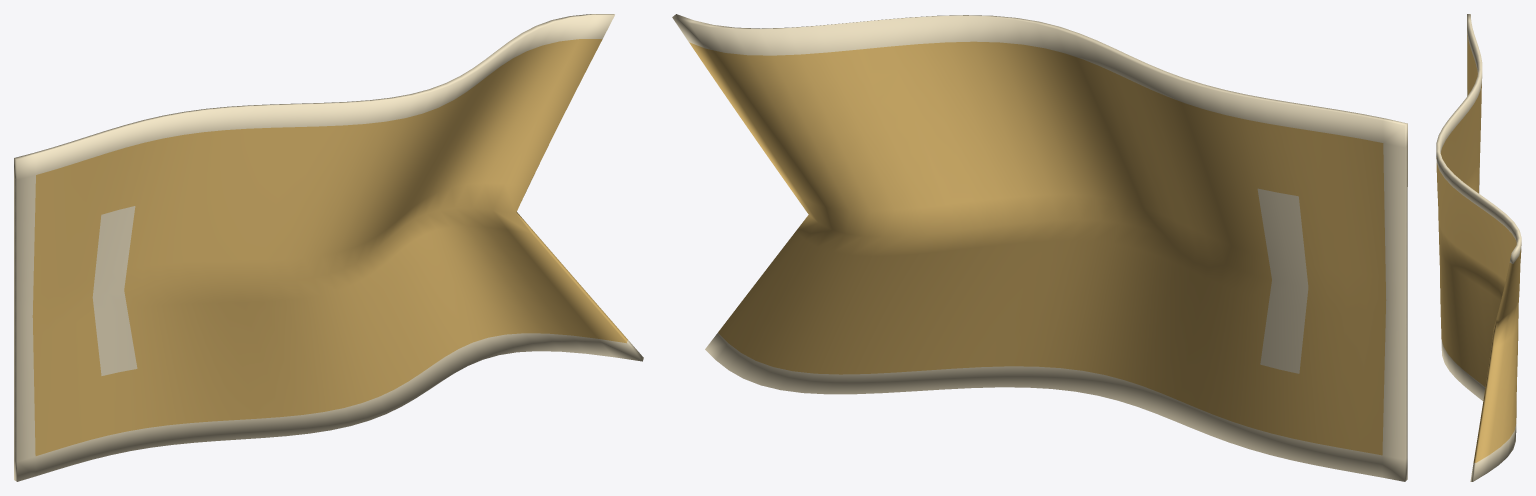
File: flag-4.glb
3 renders of one model, left to right at view 1: azimuth 30°, elevation 25°; view 2: azimuth 150°, elevation 25°; view 3: azimuth 270°, elevation 25°, orthographic. The views are drawn at different scales.
Visible parts, largest first — view 1: Captain standard; view 2: Captain standard; view 3: Captain standard.
Boxes of the visible parts, x1,y1,x2,y2 form: Captain standard: (14,14,643,481); Captain standard: (672,14,1407,481); Captain standard: (1436,14,1521,481).
Size of the model in its own units: 1.6 by 0.8638 by 0.2662.
